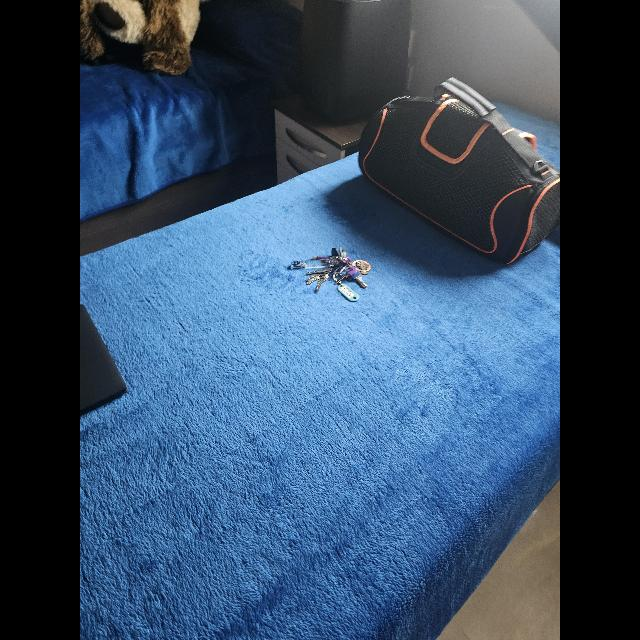Keys: (286, 248, 374, 304)
